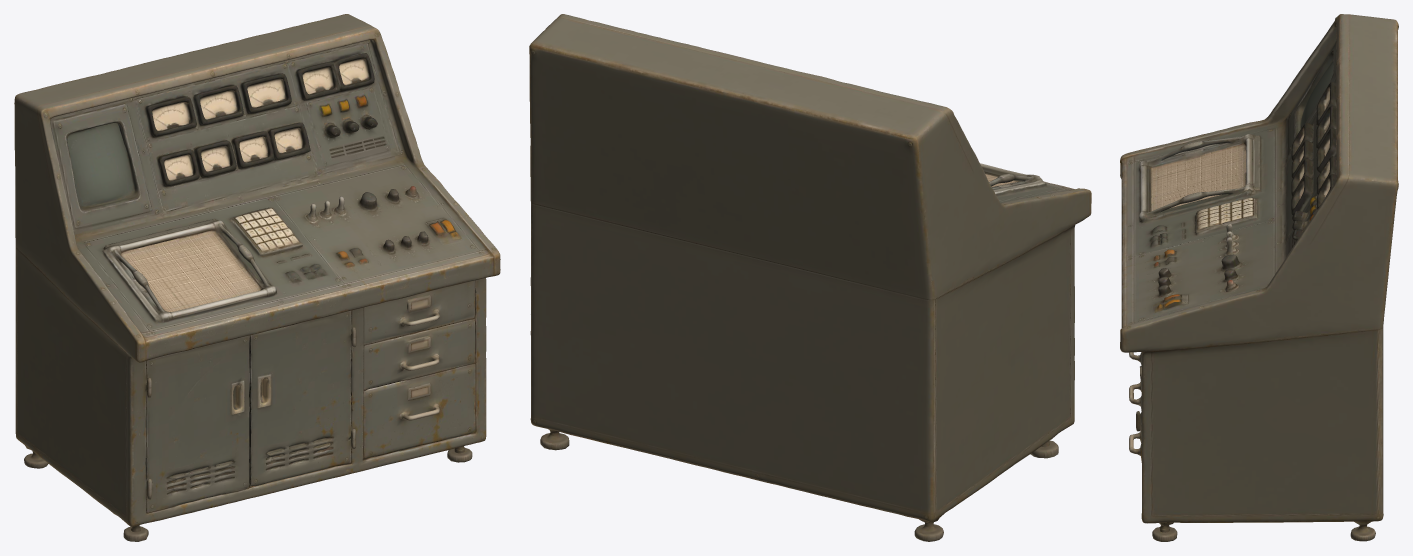
File: SM_Control_Console.fbx
The picture shows the model from 3 angles, left to right: view 1: azimuth 30°, elevation 25°; view 2: azimuth 150°, elevation 25°; view 3: azimuth 270°, elevation 25°; orthographic projection. The views are drawn at different scales.
Visible parts, largest first — view 1: SM_Control_Console; view 2: SM_Control_Console; view 3: SM_Control_Console.
Boxes of the visible parts, x1,y1,x2,y2 form: SM_Control_Console: (14,14,500,541); SM_Control_Console: (529,14,1091,541); SM_Control_Console: (1120,14,1398,541).
Bounding box in the file's own units: 1.42 × 1.36 × 0.9436.
Materials: 1 (1 with a texture image).
